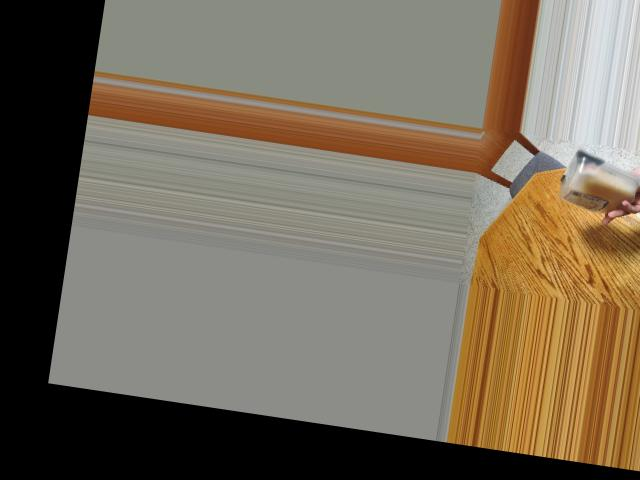cheese: (553, 148, 640, 221)
